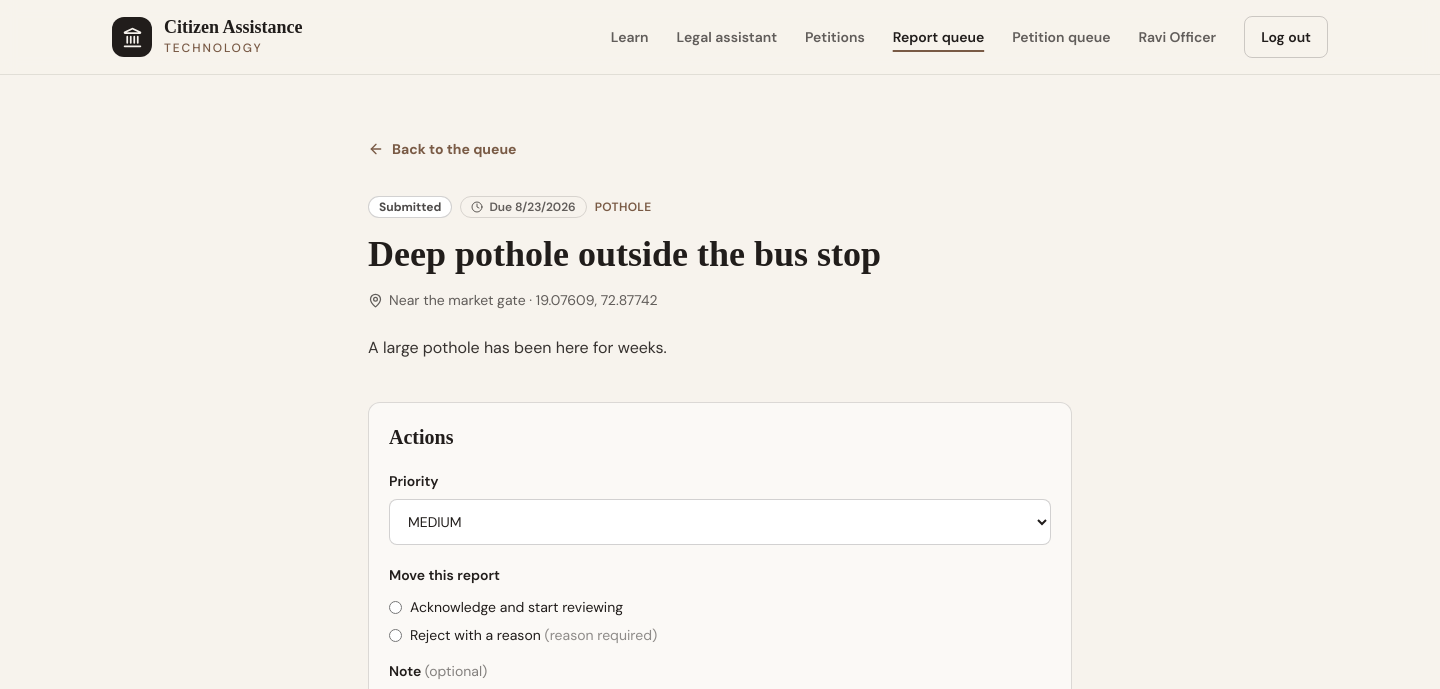
Test: AuthorityReportPage › changes priority and reports that the deadline moved
expect the heading "Deep pothole outside the bus stop" is shown: met, box [368,234,881,274]
Select "HIGH" in the dropdown labelled "Priority": (720, 522) [389,499,1051,545]
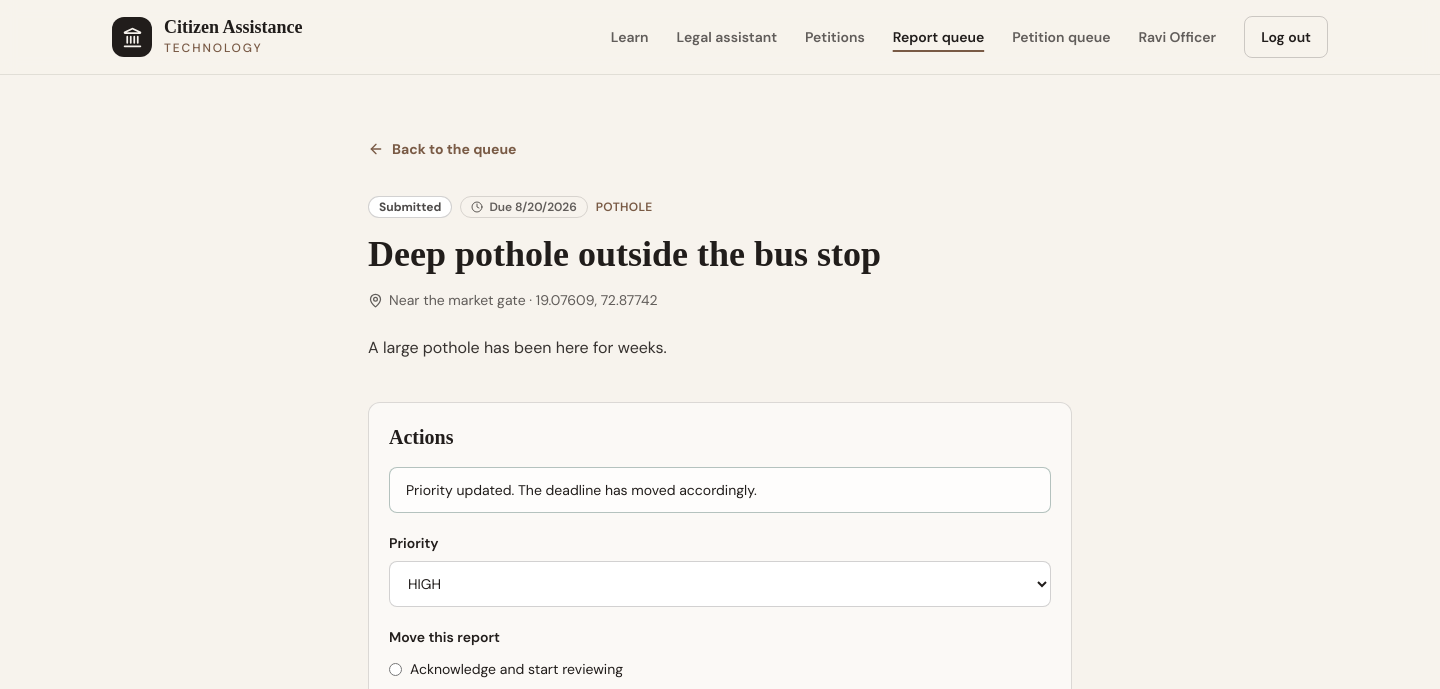
expect the message shows "Priority updated": met, box [406,481,757,499]
